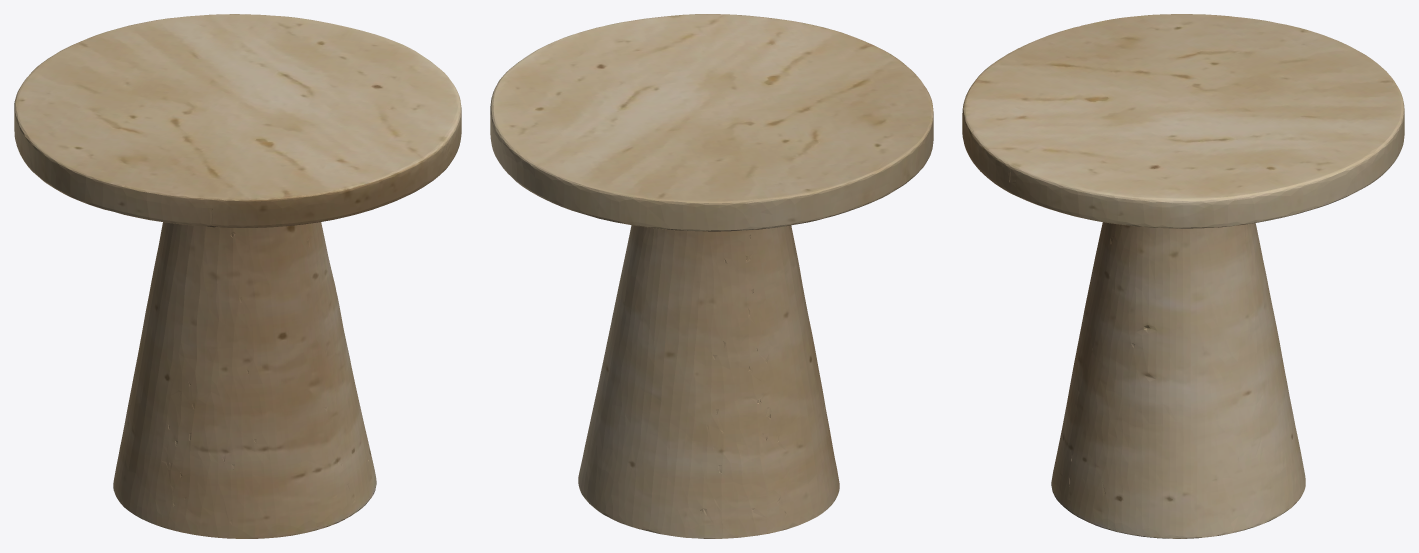
The model's file is side-table.glb.
3 views of the same model, side by side, from view 1: azimuth 30°, elevation 25°; view 2: azimuth 150°, elevation 25°; view 3: azimuth 270°, elevation 25° (orthographic).
Visible parts, largest first — view 1: geometry_0; view 2: geometry_0; view 3: geometry_0.
Boxes of the visible parts, left/top/right/bottom form: geometry_0: left=14, top=14, right=461, bottom=538; geometry_0: left=490, top=14, right=933, bottom=538; geometry_0: left=962, top=14, right=1404, bottom=538.
Size of the model in its own units: 0.9999 by 0.9341 by 0.9986.
Materials: 1 (1 with a texture image).
